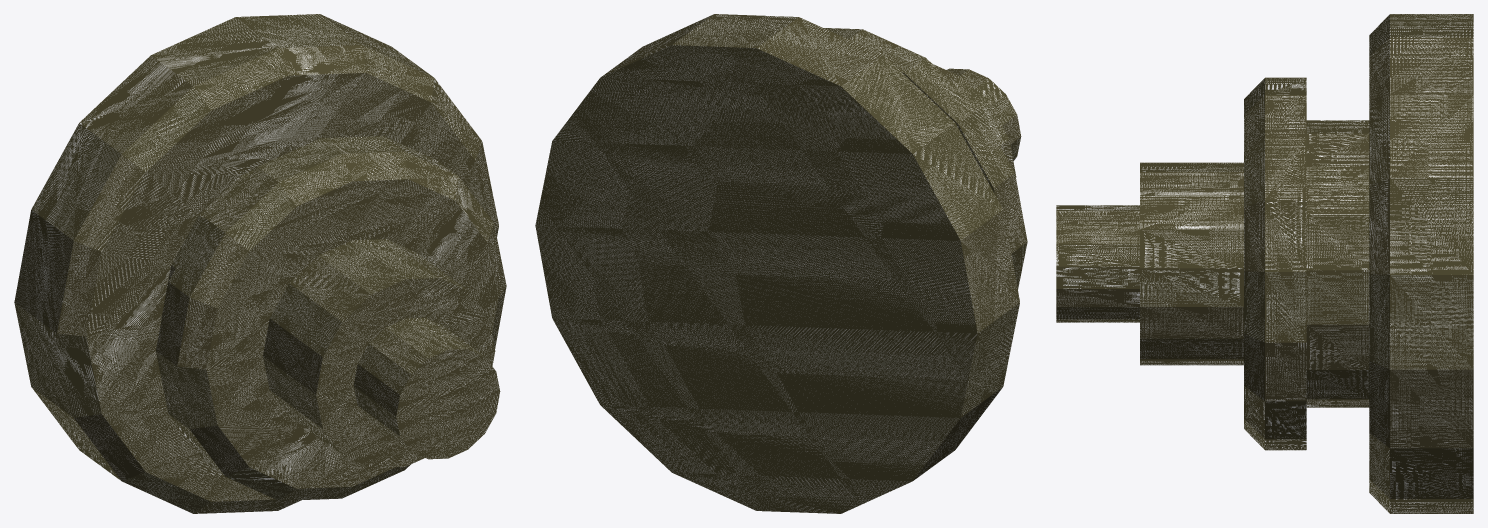
File: original-1.obj
3 renders of one model, left to right at view 1: azimuth 30°, elevation 25°; view 2: azimuth 150°, elevation 25°; view 3: azimuth 270°, elevation 25°, orthographic. The views are drawn at different scales.
Visible parts, largest first — view 1: center/mesh1/mesh1-geometry#mesh1-geometry; view 2: center/mesh1/mesh1-geometry#mesh1-geometry; view 3: center/mesh1/mesh1-geometry#mesh1-geometry.
Part boxes in pixels (x1,y1,x2,y2): center/mesh1/mesh1-geometry#mesh1-geometry: [14, 14, 506, 513]; center/mesh1/mesh1-geometry#mesh1-geometry: [535, 14, 1027, 513]; center/mesh1/mesh1-geometry#mesh1-geometry: [1056, 14, 1473, 513].
Bounding box in the file's own units: 0.1052 × 0.1052 × 0.0877.
